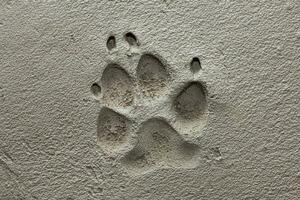chien: (89, 32, 211, 175)
